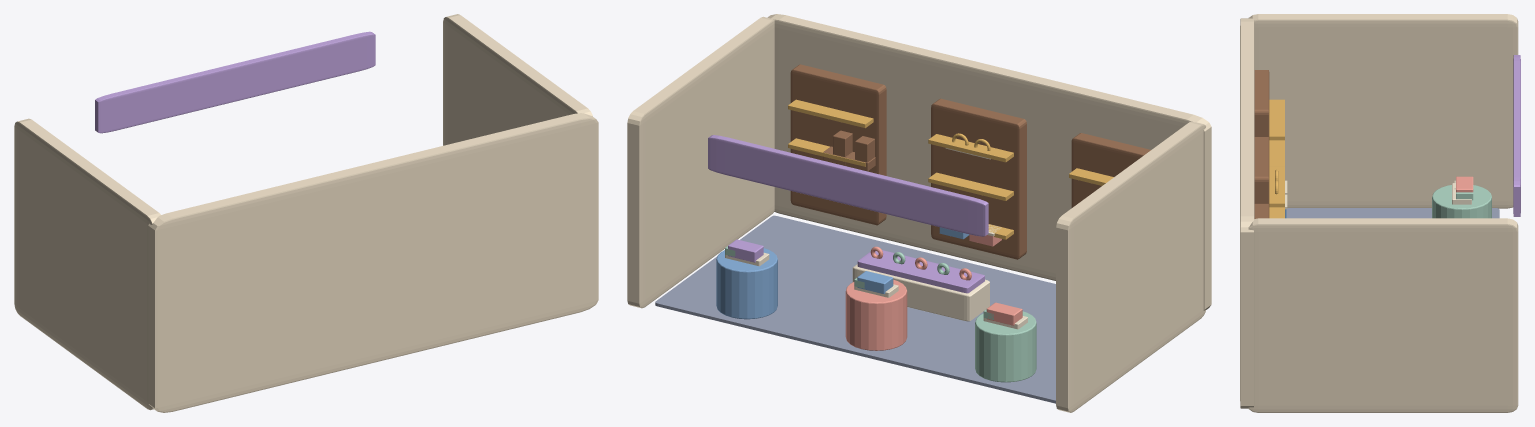
The model's file is sole_search.glb.
The picture shows the model from 3 angles, left to right: view 1: azimuth 30°, elevation 25°; view 2: azimuth 150°, elevation 25°; view 3: azimuth 270°, elevation 25°; orthographic projection. The views are drawn at different scales.
Visible parts, largest first — view 1: Sole_Back_Wall, Sole_Left_Wall, Sole_Sign, Sole_Right_Wall; view 2: Sole_Back_Wall, Sole_Left_Wall, Sole_Right_Wall, Sole_Floor_Inset, Sole_Sign, Sole_Wall_Display_-20, Sole_Wall_Display_-16.2, Sole_Pedestal_2, Sole_Pedestal_1, Sole_Pedestal_3, Sole_Wall_Display_-23.8, Sole_Fitting_Bench (+8 smaller); view 3: Sole_Right_Wall, Sole_Left_Wall, Sole_Back_Wall, Sole_Floor_Inset, Sole_Pedestal_1, Sole_Sign, Sole_Wall_Display_-20, Sole_Wall_Display_-23.8, Sole_Shelf_-23.8_8.2, Sole_Shelf_-20_8.2, Sole_Shelf_-23.8_7.2, Sneaker_1_Upper.001.
Boxes of the visible parts, <box> form: Sole_Back_Wall: <box>148,113,598,412</box>; Sole_Left_Wall: <box>14,118,160,410</box>; Sole_Sign: <box>95,31,375,133</box>; Sole_Right_Wall: <box>443,14,592,145</box>; Sole_Back_Wall: <box>767,14,1211,310</box>; Sole_Left_Wall: <box>1056,121,1205,412</box>; Sole_Right_Wall: <box>627,16,774,308</box>; Sole_Floor_Inset: <box>655,215,1055,403</box>; Sole_Sign: <box>708,135,988,236</box>; Sole_Wall_Display_-20: <box>931,98,1026,259</box>; Sole_Wall_Display_-16.2: <box>790,64,886,225</box>; Sole_Pedestal_2: <box>845,279,907,350</box>; Sole_Pedestal_1: <box>975,311,1036,382</box>; Sole_Pedestal_3: <box>716,248,777,319</box>; Sole_Wall_Display_-23.8: <box>1071,133,1150,207</box>; Sole_Fitting_Bench: <box>852,264,989,321</box>; Sole_Right_Wall: <box>1248,218,1518,412</box>; Sole_Left_Wall: <box>1249,14,1518,208</box>; Sole_Back_Wall: <box>1240,18,1254,408</box>; Sole_Floor_Inset: <box>1286,208,1499,218</box>; Sole_Pedestal_1: <box>1432,185,1491,218</box>; Sole_Sign: <box>1513,55,1520,216</box>; Sole_Wall_Display_-20: <box>1254,137,1269,205</box>; Sole_Wall_Display_-23.8: <box>1254,70,1269,138</box>; Sole_Shelf_-23.8_8.2: <box>1269,99,1284,140</box>; Sole_Shelf_-20_8.2: <box>1269,166,1284,207</box>; Sole_Shelf_-23.8_7.2: <box>1269,140,1284,166</box>; Sneaker_1_Upper.001: <box>1456,176,1473,192</box>.
Bounding box in the file's own units: 12 × 5 × 6.74.
